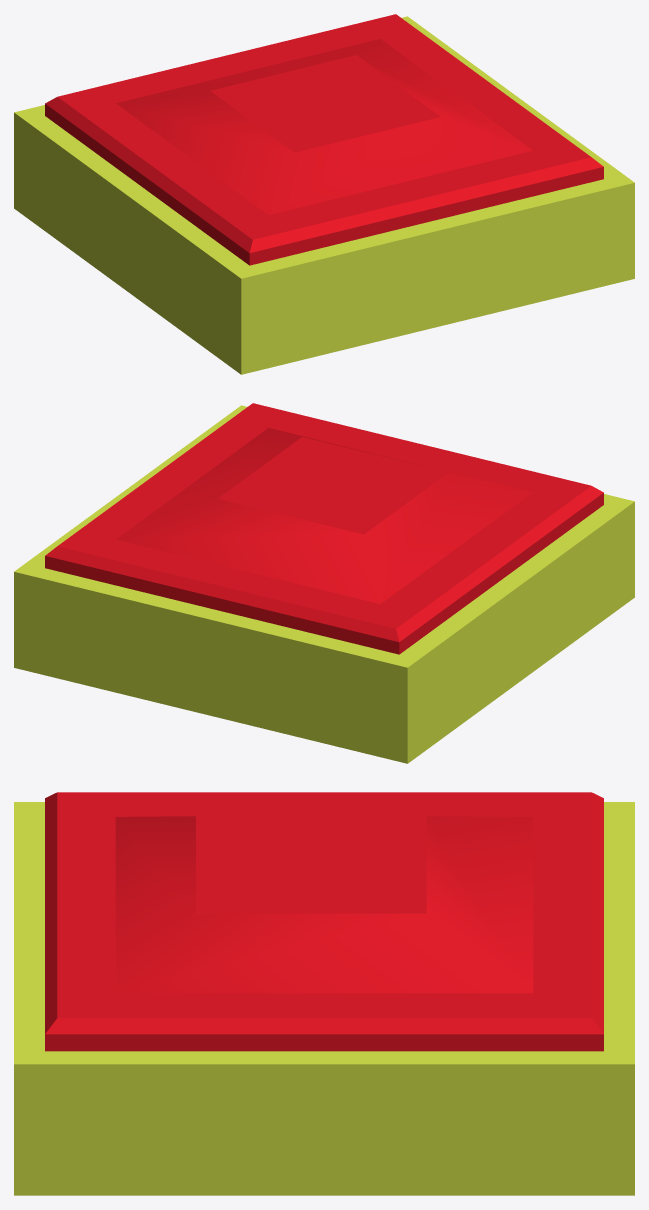
The model's file is Floor2.fbx.
3 views of the same model, one above another, from view 1: azimuth 30°, elevation 25°; view 2: azimuth 150°, elevation 25°; view 3: azimuth 270°, elevation 25° (orthographic). The views are drawn at different scales.
Parts seen in each view (by area): view 1: Cube; view 2: Cube; view 3: Cube.
Boxes of the visible parts, left/top/right/bottom form: Cube: left=14, top=14, right=634, bottom=374; Cube: left=14, top=403, right=634, bottom=763; Cube: left=14, top=792, right=634, bottom=1195.
Size of the model in its own units: 200 by 70.03 by 200.
